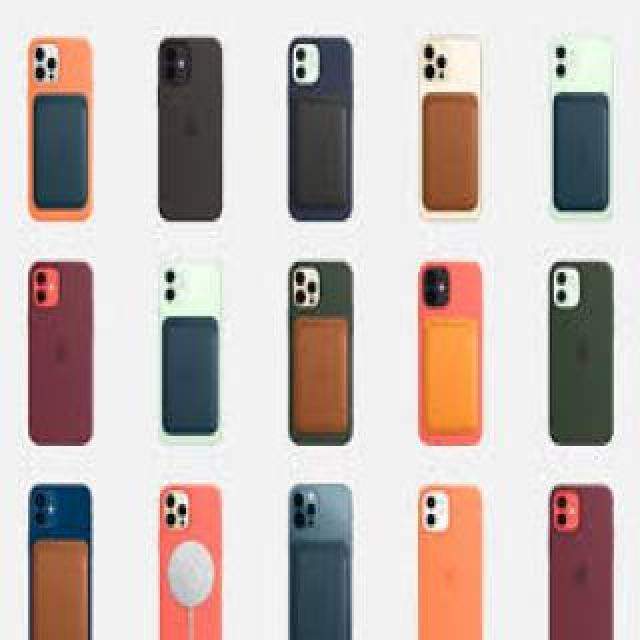smart phone: (8, 18, 120, 230), (272, 252, 372, 453), (148, 32, 248, 222), (408, 254, 498, 464), (17, 252, 110, 455), (407, 13, 483, 224), (543, 28, 627, 218), (13, 487, 115, 638), (550, 463, 632, 640), (147, 485, 235, 637), (544, 240, 608, 445), (414, 480, 496, 640), (157, 250, 225, 442), (287, 30, 348, 228), (286, 480, 356, 640)
